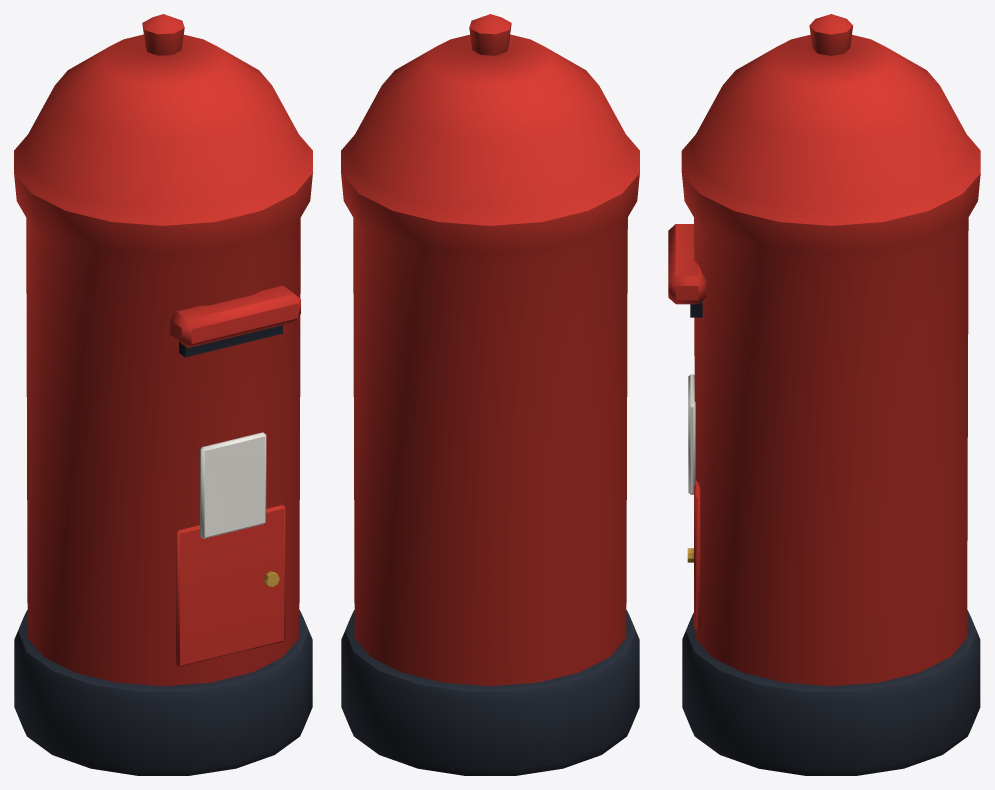
Rendered from postbox.glb.
The picture shows the model from 3 angles, left to right: view 1: azimuth 30°, elevation 25°; view 2: azimuth 150°, elevation 25°; view 3: azimuth 270°, elevation 25°; orthographic projection.
Visible parts, largest first — view 1: Postbox Red paint, Postbox Postbox base, Postbox Cream paint, Postbox Slot; view 2: Postbox Red paint, Postbox Postbox base; view 3: Postbox Red paint, Postbox Postbox base, Postbox Cream paint.
Part boxes in pixels (x1=…): Postbox Red paint: x1=14, y1=14, x2=312, y2=686; Postbox Postbox base: x1=14, y1=610, x2=312, y2=775; Postbox Cream paint: x1=200, y1=432, x2=266, y2=538; Postbox Slot: x1=179, y1=325, x2=282, y2=357; Postbox Red paint: x1=341, y1=14, x2=639, y2=686; Postbox Postbox base: x1=341, y1=610, x2=639, y2=775; Postbox Red paint: x1=668, y1=14, x2=980, y2=686; Postbox Postbox base: x1=682, y1=610, x2=980, y2=775; Postbox Cream paint: x1=688, y1=374, x2=695, y2=494.
Bounding box in the file's own units: 0.484 × 1.24 × 0.4983.
